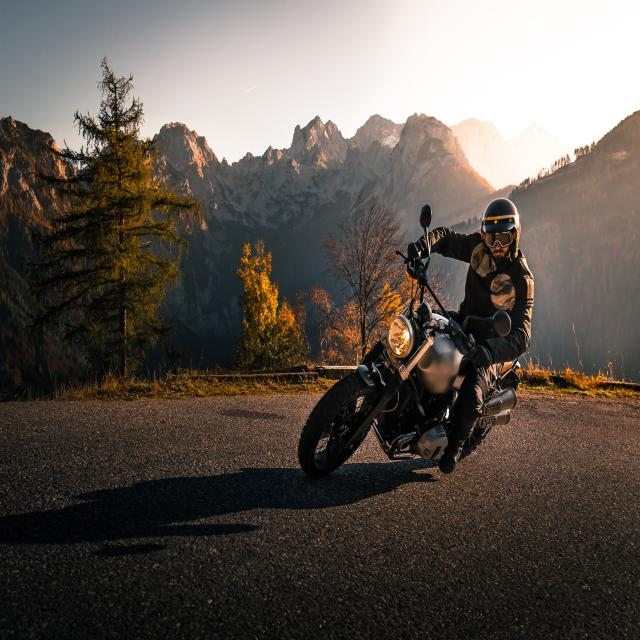motorcycle: (299, 199, 534, 476)
